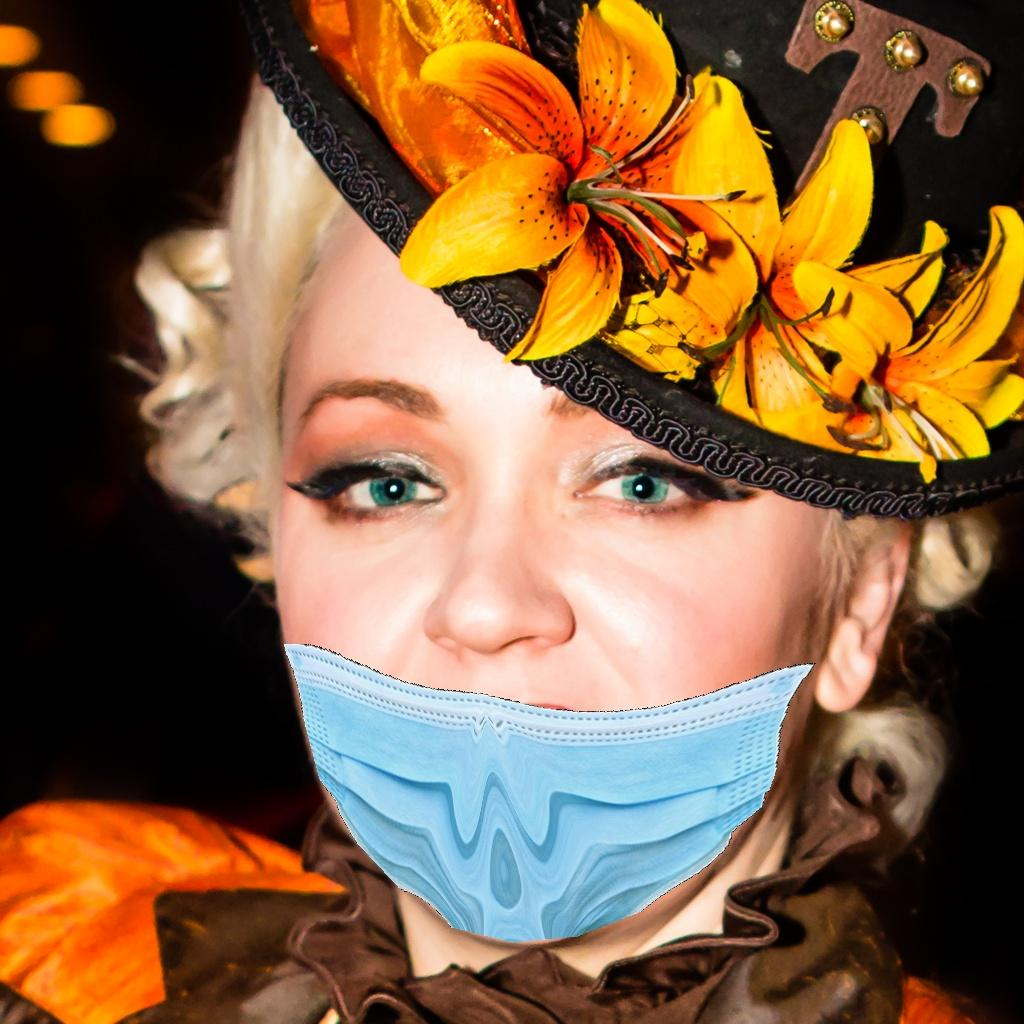Máscara Incorreta: (262, 290, 835, 916)
